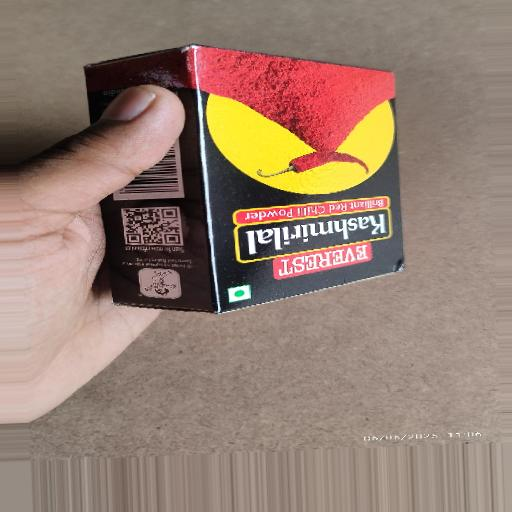Everest Kashmirilal: (45, 27, 437, 323)
